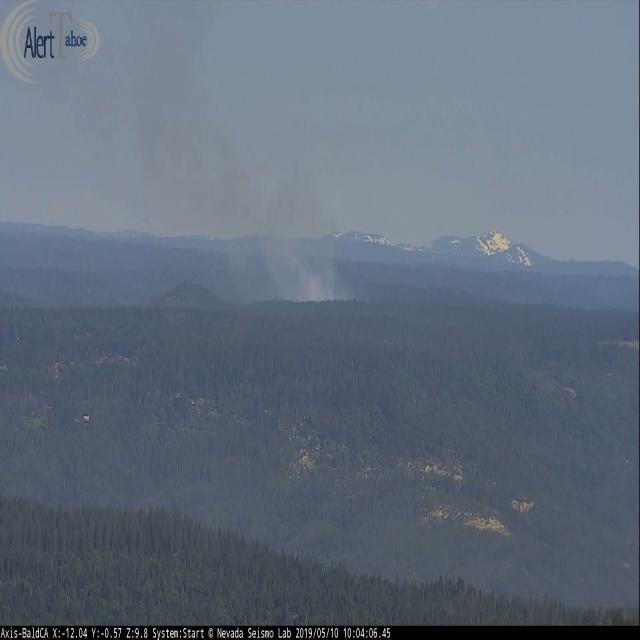smoke: (137, 41, 360, 303)
